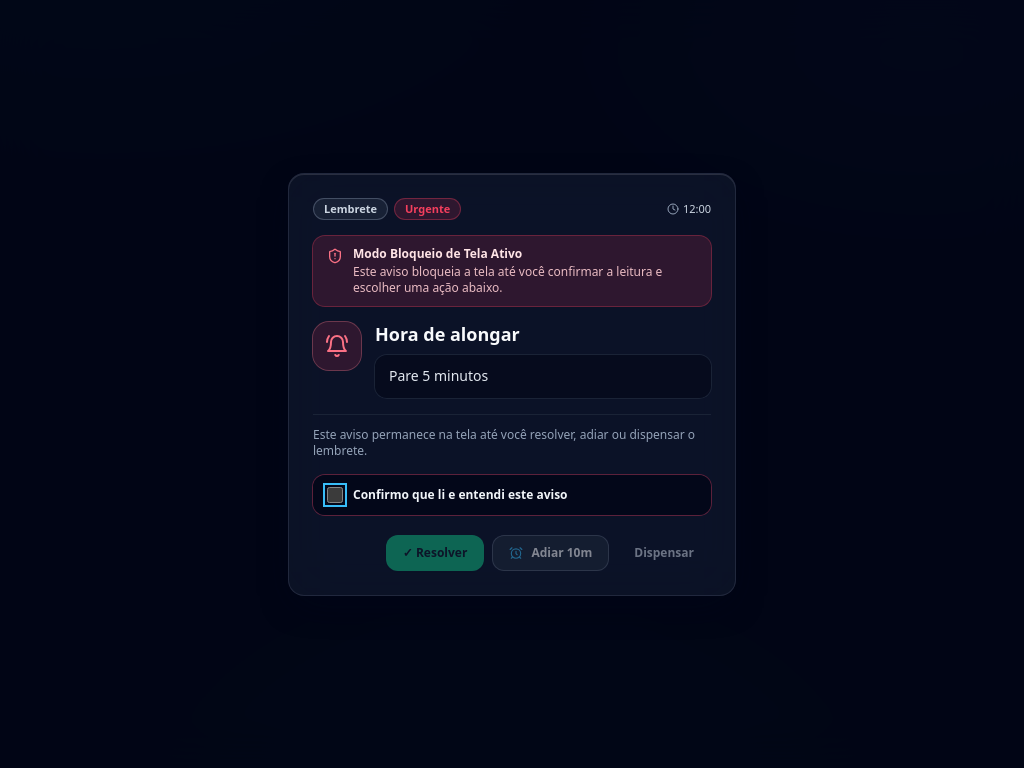
AlertLockPage › loads pending alert in locked mode and resolves after read confirmation
Later steps or results of the test are not shown.
Expected: the heading "Hora de alongar" is shown, [375,322,520,346]
Expected: the button "✓ Resolver" is disabled, [386,534,484,570]
Click the checkbox with test id "confirm-read-checkbox": x=335, y=494 [327,486,343,502]
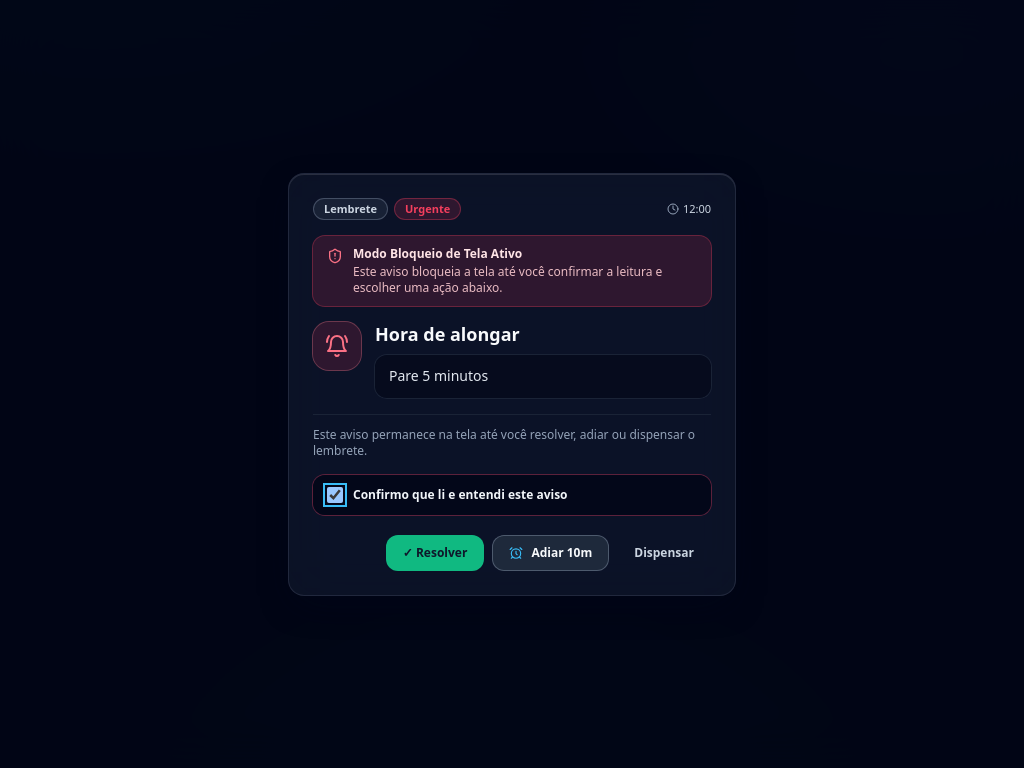
Expected: the button "✓ Resolver" is enabled, [386,534,484,570]
